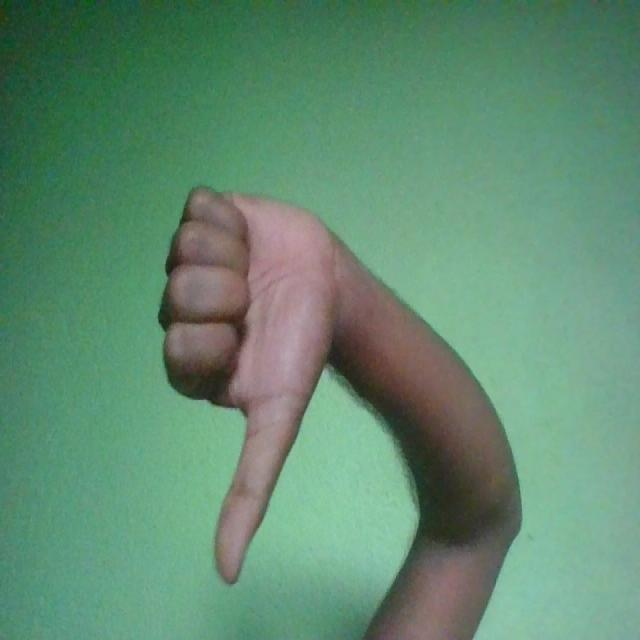Dislike: (158, 185, 350, 586)
